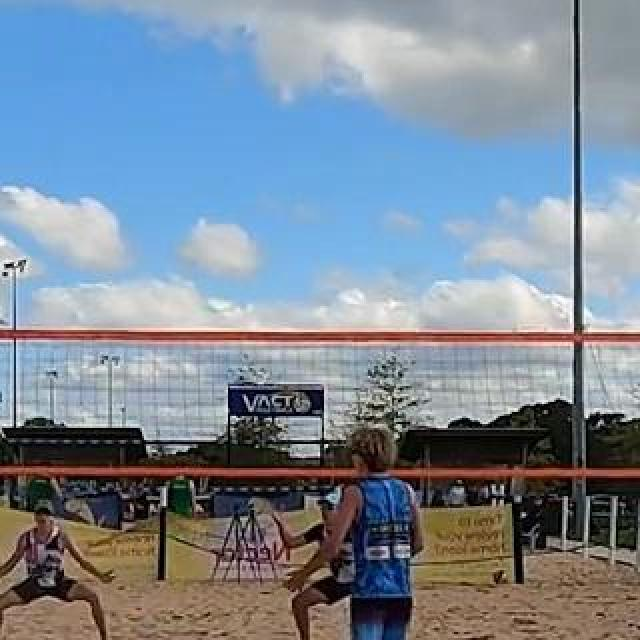volleyball: (494, 569, 508, 585)
